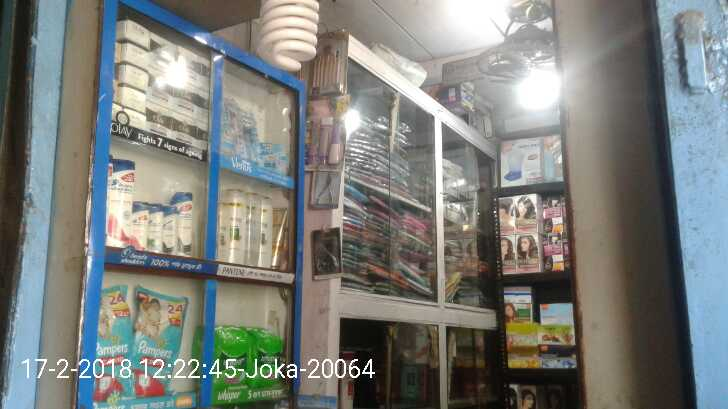venus: (238, 106, 259, 163), (259, 143, 286, 163)
